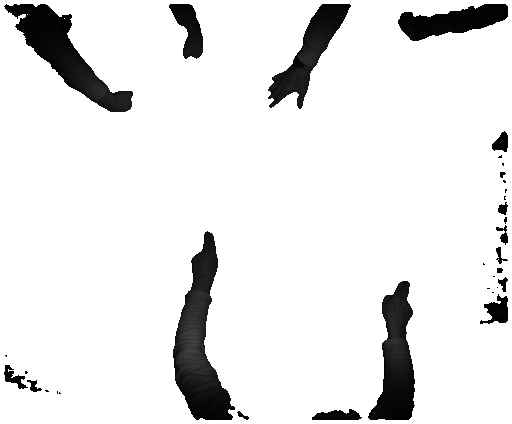fist: (179, 34, 207, 63), (109, 80, 135, 111)
hand: (185, 225, 223, 287), (264, 70, 319, 111), (376, 280, 415, 333)
